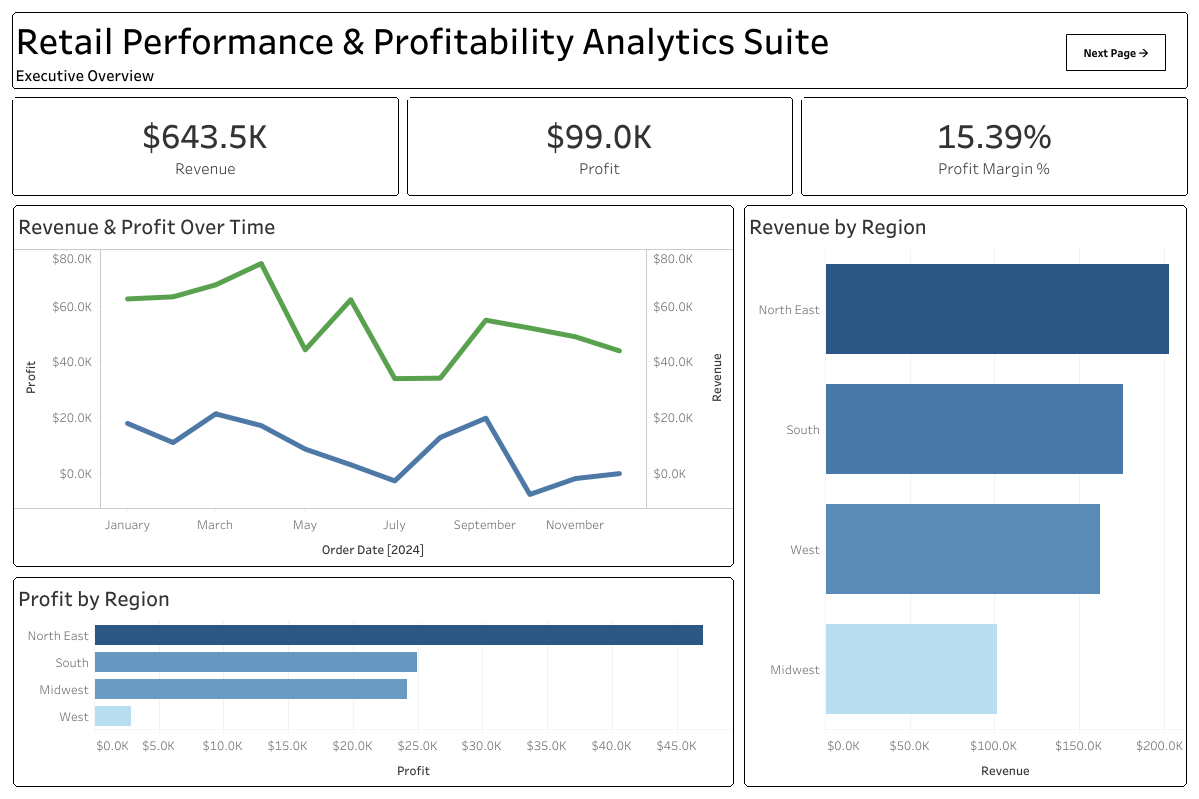

Layout of this report page (visuals, bound fields, positions):
{"tool":"tableau","page":{"name":"Executive Overview","canvas":[1200,800],"ordinal":0},"visuals":[{"type":"text","box":[8,8,1184,85]},{"type":"dashboard-object","box":[1066,34,100,37]},{"type":"worksheet","title":"KPI - Revenue","mark":"Automatic","box":[8,93,394.7,107]},{"type":"worksheet","title":"KPI - Profit","mark":"Automatic","box":[402.7,93,394.7,107]},{"type":"worksheet","title":"KPI - Profit Margin %","mark":"Automatic","box":[797.3,93,394.7,107]},{"type":"worksheet","title":"Rev/Prof Line Chart","mark":"Automatic","rows":["profit","revenue"],"cols":["order_date"],"box":[8,200,731,372]},{"type":"worksheet","title":"Rev by Region","mark":"Automatic","rows":["region"],"cols":["revenue"],"box":[739,200,453,592]},{"type":"worksheet","title":"Prof by Region","mark":"Automatic","rows":["region"],"cols":["profit"],"box":[8,572,731,220]}]}

Visuals, with their boxes in screenshot pixels (x1, y1, x2, y2), scaled from the page's 1200x800 canvas onto the 1199x799 screenshot:
text: (left=8, top=8, right=1191, bottom=93)
dashboard-object: (left=1065, top=34, right=1165, bottom=71)
"KPI - Revenue" worksheet: (left=8, top=93, right=402, bottom=200)
"KPI - Profit" worksheet: (left=402, top=93, right=797, bottom=200)
"KPI - Profit Margin %" worksheet: (left=797, top=93, right=1191, bottom=200)
"Rev/Prof Line Chart" worksheet: (left=8, top=200, right=738, bottom=571)
"Rev by Region" worksheet: (left=738, top=200, right=1191, bottom=791)
"Prof by Region" worksheet: (left=8, top=571, right=738, bottom=791)
